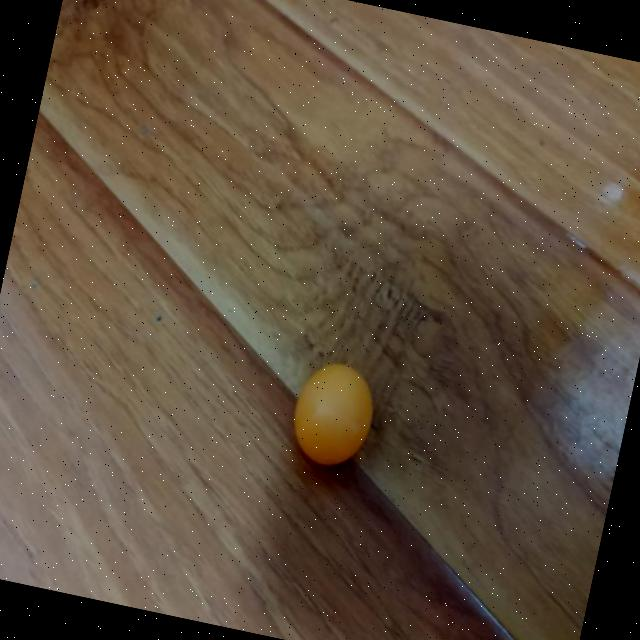ping-pong-ball: (285, 354, 381, 470)
